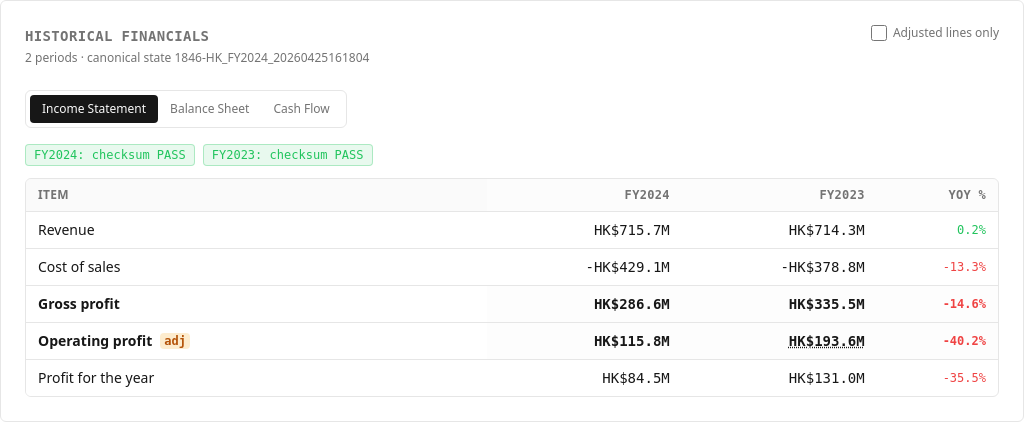
Scenario: HistoricalFinancials › filters to adjusted-only when toggled
Click the checkbox labelled "Adjusted lines only".
click(879, 33)  # box [871,25,887,41]
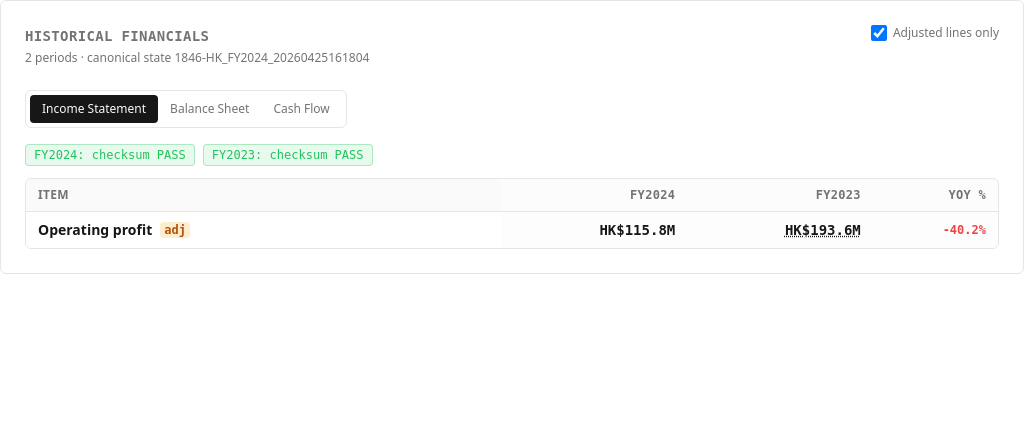
Expected: the text "Operating profit" is shown, [38,220,152,240]
Expected: the text "Revenue" is gone
